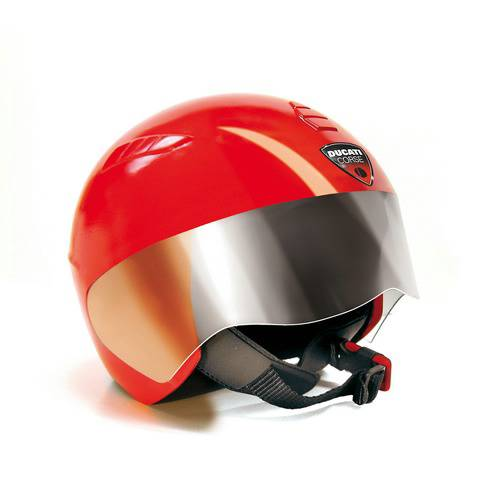helmet: (58, 79, 432, 302)
